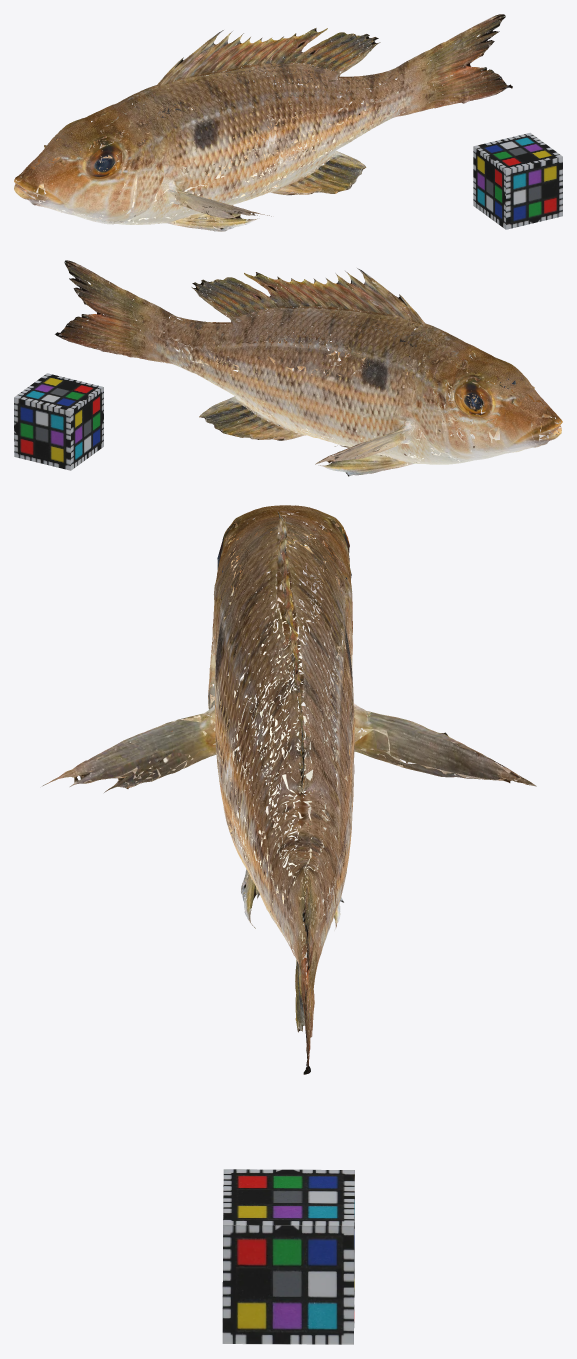
File: scan_blueemperor.glb
3 views of the same model, one above another, from view 1: azimuth 30°, elevation 25°; view 2: azimuth 150°, elevation 25°; view 3: azimuth 270°, elevation 25° (orthographic). The views are drawn at different scales.
Parts seen in each view (by area): view 1: Object_10, Object_6, Object_4; view 2: Object_6, Object_10, Object_4; view 3: Object_10, Object_6, Object_4.
Boxes of the visible parts, <box> form: Object_10: <box>14,14,512,231</box>; Object_6: <box>14,14,512,231</box>; Object_4: <box>473,132,562,229</box>; Object_6: <box>55,260,561,476</box>; Object_10: <box>56,260,562,475</box>; Object_4: <box>14,373,103,470</box>; Object_10: <box>42,505,536,1074</box>; Object_6: <box>72,511,534,1073</box>; Object_4: <box>222,1169,354,1344</box>.
Bounding box in the file's own units: 8.04 × 3.69 × 3.26.
3 materials, 3 textured.
